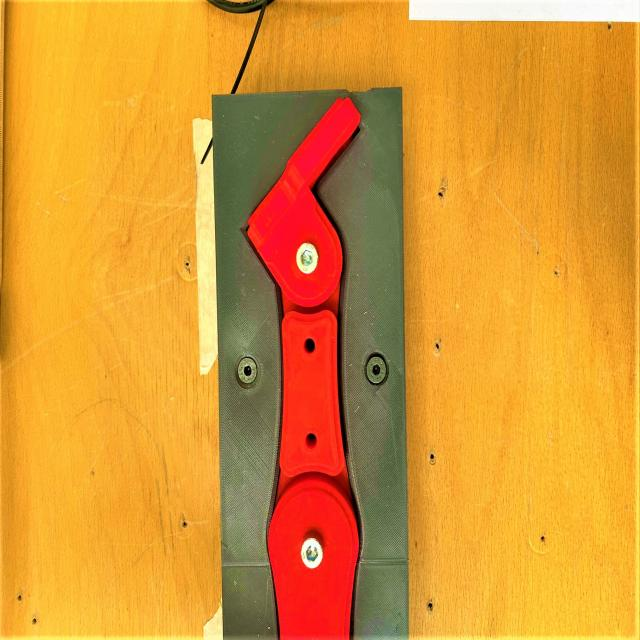HexScrew: (297, 242, 318, 275), (301, 538, 323, 569), (366, 356, 387, 384), (238, 359, 258, 384)
